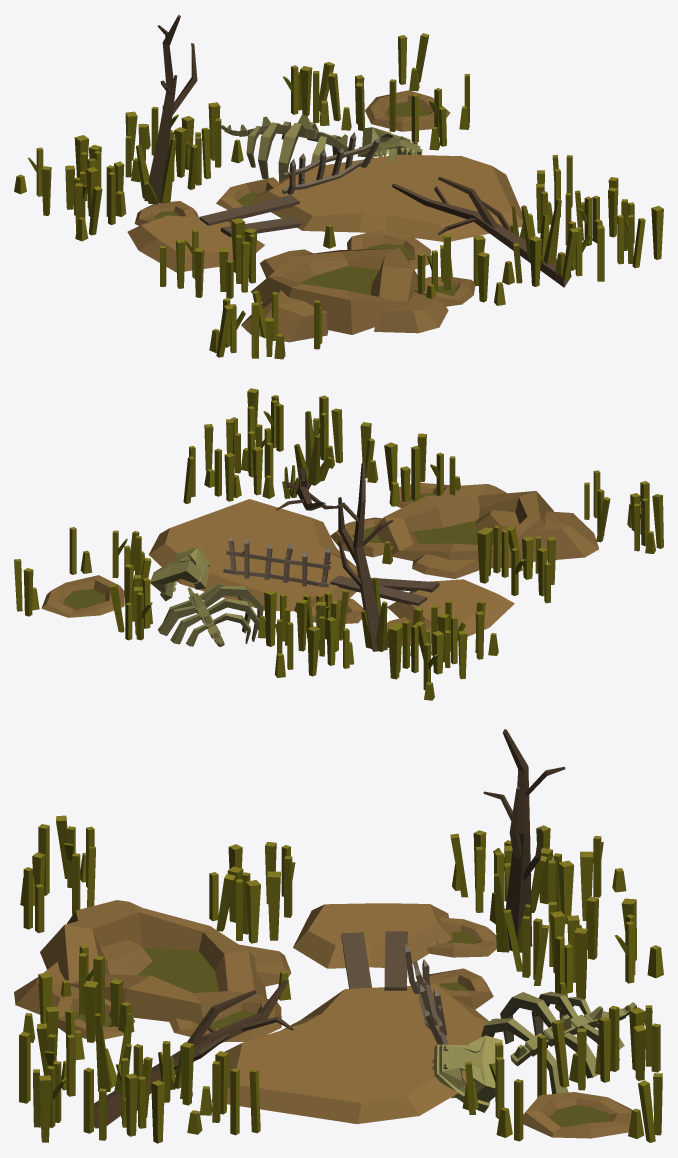
Rendered from SF_Env_Swamp_Preset_02.FBX.
3 renders of one model, top to bottom at view 1: azimuth 30°, elevation 25°; view 2: azimuth 150°, elevation 25°; view 3: azimuth 270°, elevation 25°, orthographic. The views are drawn at different scales.
Parts seen in each view (by area): view 1: SF_Env_Swamp_Preset_02_Elements71, SF_Env_Swamp_Preset_02_Elements150, SF_Env_Swamp_Preset_02_Elements73, SF_Env_Swamp_Preset_02_Elements99, SF_Env_Swamp_Preset_02_Elements82, SF_Env_Swamp_Preset_02_Elements158, SF_Env_Swamp_Preset_02_Elements90, SF_Env_Swamp_Preset_02_Elements50, SF_Env_Swamp_Preset_02_Elements24, SF_Env_Swamp_Preset_02_Elements53, SF_Env_Swamp_Preset_02_Elements11; view 2: SF_Env_Swamp_Preset_02_Elements71, SF_Env_Swamp_Preset_02_Elements150, SF_Env_Swamp_Preset_02_Elements99, SF_Env_Swamp_Preset_02_Elements73, SF_Env_Swamp_Preset_02_Elements158, SF_Env_Swamp_Preset_02_Elements82, SF_Env_Swamp_Preset_02_Elements151, SF_Env_Swamp_Preset_02_Elements27, SF_Env_Swamp_Preset_02_Elements23, SF_Env_Swamp_Preset_02_Elements186, SF_Env_Swamp_Preset_02_Elements39, SF_Env_Swamp_Preset_02_Elements61 (+4 smaller); view 3: SF_Env_Swamp_Preset_02_Elements71, SF_Env_Swamp_Preset_02_Elements150, SF_Env_Swamp_Preset_02_Elements99, SF_Env_Swamp_Preset_02_Elements73, SF_Env_Swamp_Preset_02_Elements158, SF_Env_Swamp_Preset_02_Elements82, SF_Env_Swamp_Preset_02_Elements151, SF_Env_Swamp_Preset_02_Elements23, SF_Env_Swamp_Preset_02_Elements51, SF_Env_Swamp_Preset_02_Elements27, SF_Env_Swamp_Preset_02_Elements90, SF_Env_Swamp_Preset_02_Elements26 (+20 smaller).
Part boxes in pixels (left/top/right/bottom): SF_Env_Swamp_Preset_02_Elements71: left=127, top=127, right=522, bottom=272; SF_Env_Swamp_Preset_02_Elements150: left=241, top=229, right=475, bottom=342; SF_Env_Swamp_Preset_02_Elements73: left=136, top=14, right=197, bottom=203; SF_Env_Swamp_Preset_02_Elements99: left=221, top=115, right=348, bottom=181; SF_Env_Swamp_Preset_02_Elements82: left=392, top=177, right=571, bottom=287; SF_Env_Swamp_Preset_02_Elements158: left=365, top=90, right=450, bottom=131; SF_Env_Swamp_Preset_02_Elements90: left=543, top=198, right=561, bottom=264; SF_Env_Swamp_Preset_02_Elements50: left=651, top=205, right=663, bottom=259; SF_Env_Swamp_Preset_02_Elements24: left=174, top=127, right=187, bottom=177; SF_Env_Swamp_Preset_02_Elements53: left=529, top=236, right=541, bottom=286; SF_Env_Swamp_Preset_02_Elements11: left=477, top=252, right=489, bottom=302; SF_Env_Swamp_Preset_02_Elements71: left=148, top=499, right=514, bottom=646; SF_Env_Swamp_Preset_02_Elements150: left=330, top=445, right=598, bottom=578; SF_Env_Swamp_Preset_02_Elements99: left=157, top=583, right=263, bottom=646; SF_Env_Swamp_Preset_02_Elements73: left=338, top=462, right=397, bottom=651; SF_Env_Swamp_Preset_02_Elements158: left=41, top=575, right=124, bottom=617; SF_Env_Swamp_Preset_02_Elements82: left=276, top=468, right=338, bottom=510; SF_Env_Swamp_Preset_02_Elements151: left=475, top=509, right=519, bottom=538; SF_Env_Swamp_Preset_02_Elements27: left=477, top=529, right=491, bottom=583; SF_Env_Swamp_Preset_02_Elements23: left=264, top=589, right=276, bottom=646; SF_Env_Swamp_Preset_02_Elements186: left=388, top=625, right=401, bottom=679; SF_Env_Swamp_Preset_02_Elements39: left=307, top=626, right=320, bottom=676; SF_Env_Swamp_Preset_02_Elements61: left=652, top=494, right=663, bottom=548; SF_Env_Swamp_Preset_02_Elements71: left=211, top=903, right=502, bottom=1124; SF_Env_Swamp_Preset_02_Elements150: left=14, top=900, right=291, bottom=1041; SF_Env_Swamp_Preset_02_Elements99: left=481, top=991, right=636, bottom=1093; SF_Env_Swamp_Preset_02_Elements73: left=483, top=729, right=541, bottom=952; SF_Env_Swamp_Preset_02_Elements158: left=523, top=1092, right=632, bottom=1138; SF_Env_Swamp_Preset_02_Elements82: left=94, top=980, right=293, bottom=1128; SF_Env_Swamp_Preset_02_Elements151: left=101, top=939, right=152, bottom=975; SF_Env_Swamp_Preset_02_Elements23: left=574, top=928, right=588, bottom=999; SF_Env_Swamp_Preset_02_Elements51: left=19, top=1032, right=30, bottom=1103; SF_Env_Swamp_Preset_02_Elements27: left=267, top=871, right=280, bottom=940; SF_Env_Swamp_Preset_02_Elements90: left=95, top=1013, right=111, bottom=1091; SF_Env_Swamp_Preset_02_Elements26: left=245, top=880, right=260, bottom=943.
Bounding box in the file's own units: 19.61 × 8.96 × 19.92.
